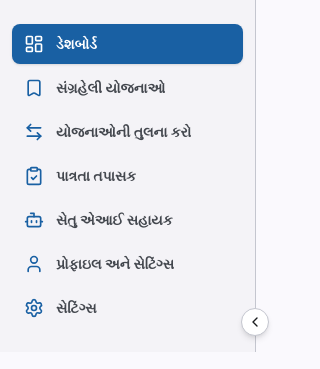
Test case: icon-only buttons have a name screen readers read (gu) › the sidebar collapse button says which way it goes
Click the button named "સાઇડબાર નાનું કરો".
click(255, 322)  # box [241,308,269,336]
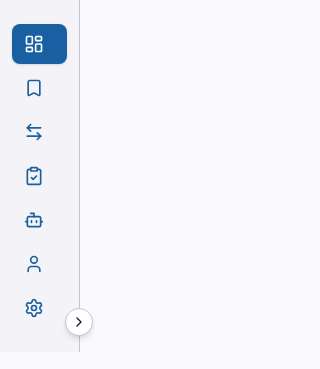
Now the button named "સાઇડબાર ખોલો" is collapsed, box [65,308,93,336]
